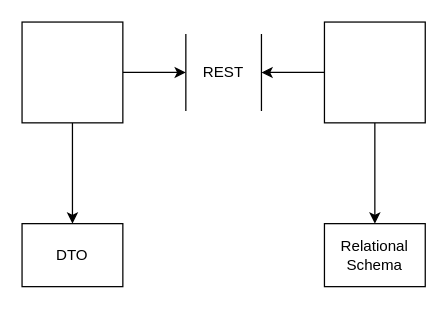
Image size: 447x309. Some labels were removed from this diagram. The shapes that lost their labels are listed below. From the top down, each one's centre as x and y in pixels, then its label:
At point (72, 72): "Facade".
At point (374, 72): "Postgrest".
